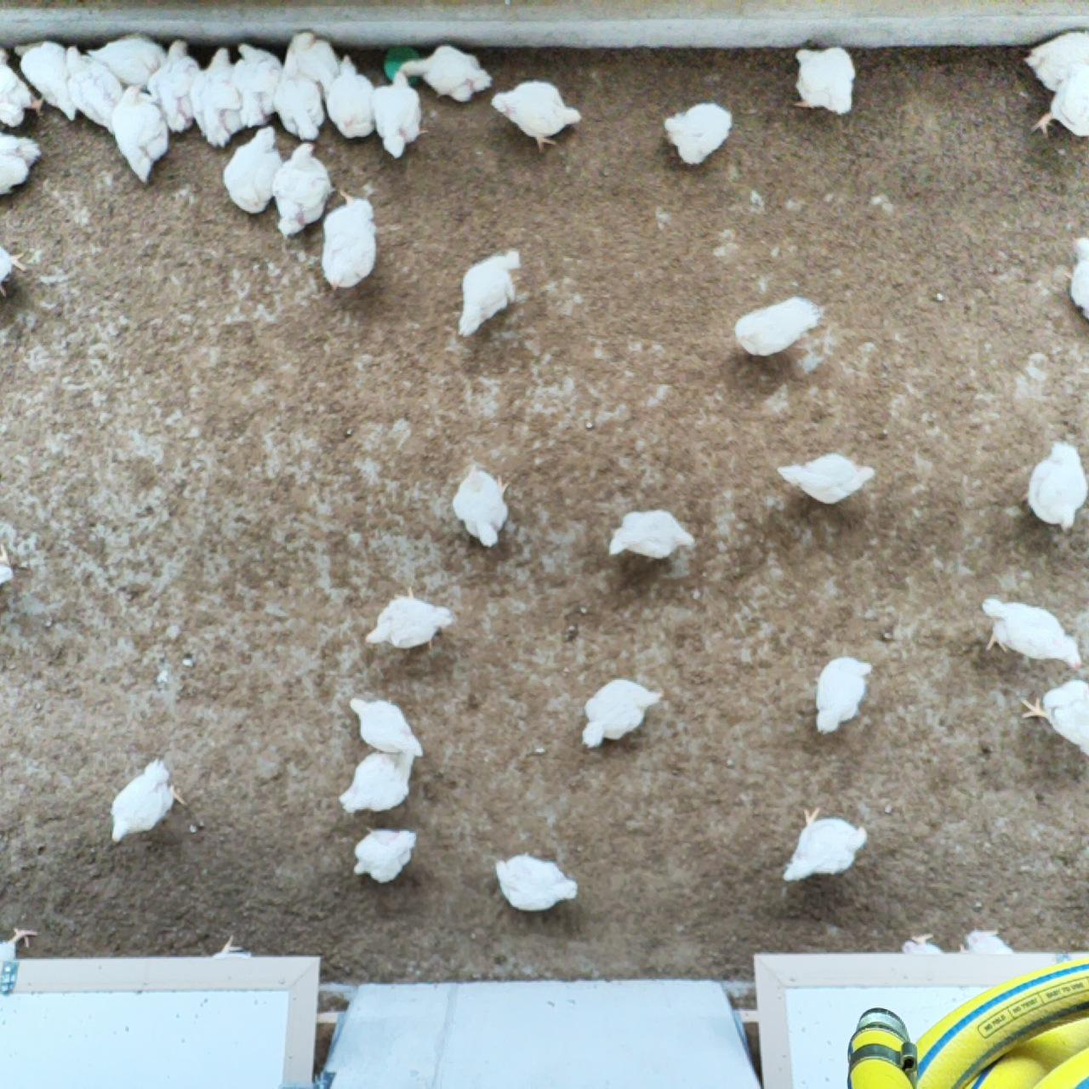chicken: (979, 591, 1085, 670), (104, 756, 189, 846), (778, 807, 869, 891), (449, 244, 523, 343), (493, 75, 584, 153), (318, 186, 382, 290), (271, 140, 335, 243), (361, 583, 453, 652), (580, 677, 666, 750), (396, 44, 494, 108), (108, 80, 168, 184), (731, 293, 825, 359), (777, 450, 878, 509), (270, 47, 330, 145), (496, 850, 585, 916), (348, 691, 426, 766), (1024, 439, 1086, 533), (1018, 679, 1089, 761), (810, 652, 877, 738), (224, 123, 284, 219), (447, 466, 513, 553), (337, 748, 419, 818), (189, 47, 245, 147), (63, 43, 125, 133), (14, 36, 79, 121), (607, 506, 701, 564), (147, 35, 200, 135), (661, 101, 737, 170), (371, 68, 429, 158), (231, 39, 286, 130), (83, 34, 172, 89), (325, 51, 380, 139), (1032, 60, 1089, 144), (790, 46, 857, 116), (281, 29, 344, 103), (347, 823, 422, 884), (1022, 26, 1089, 91), (0, 46, 51, 130), (0, 130, 45, 199), (1063, 237, 1089, 323), (0, 918, 37, 962), (959, 923, 1011, 954), (0, 241, 27, 296), (899, 929, 944, 956)
